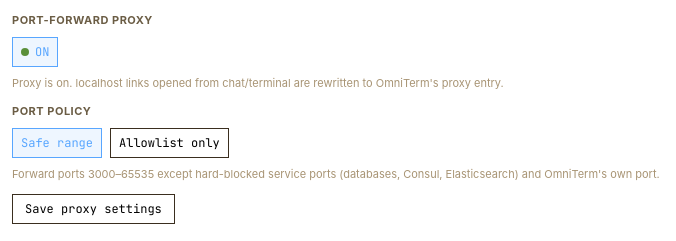
Test: ProxySection（代理安全设置） › saves the whole draft and updates the link-rewrite gate
This screenshot has width=676, height=241.
Click the button "ON": (35, 52) [12,36,58,66]
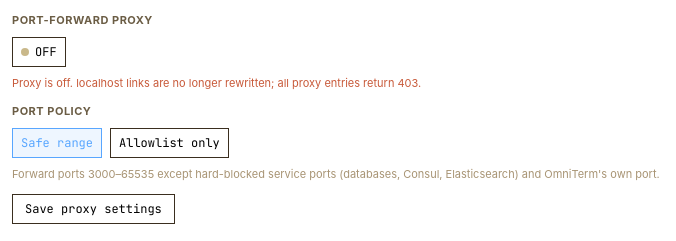
Click the button "Save proxy settings": (93, 209) [12,194,175,224]
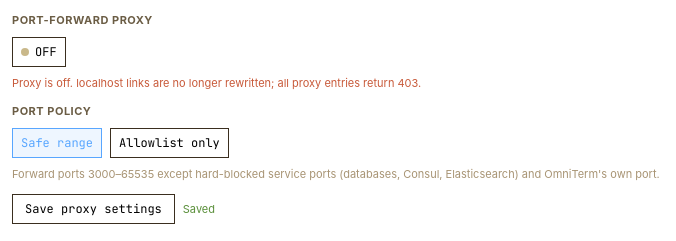
Check: the text "Saved" is shown, box [183,201,215,217]
